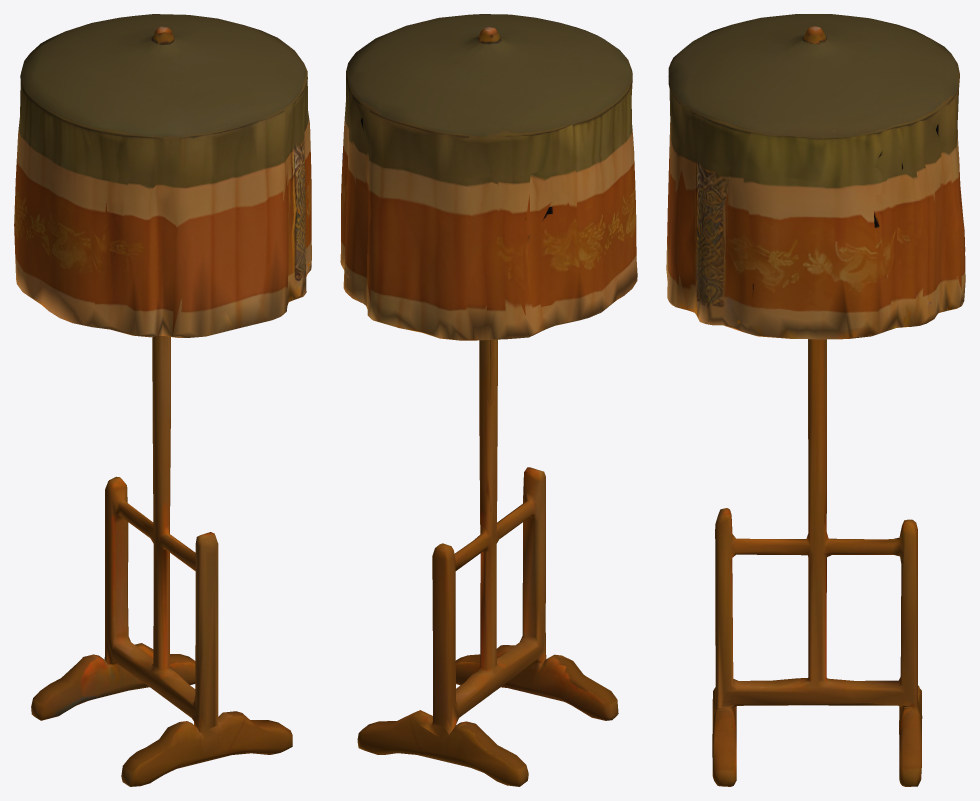
File: Lamp-reduced-tris.fbx
3 renders of one model, left to right at view 1: azimuth 30°, elevation 25°; view 2: azimuth 150°, elevation 25°; view 3: azimuth 270°, elevation 25°, orthographic. The views are drawn at different scales.
Visible parts, largest first — view 1: tripo_node_741c4570; view 2: tripo_node_741c4570; view 3: tripo_node_741c4570.
Part boxes in pixels (x1=…): tripo_node_741c4570: x1=14, y1=14, x2=311, y2=786; tripo_node_741c4570: x1=340, y1=14, x2=637, y2=786; tripo_node_741c4570: x1=666, y1=14, x2=965, y2=786.
Size of the model in its own units: 37.64 by 99.98 by 37.57.
Materials: 1 (1 with a texture image).
